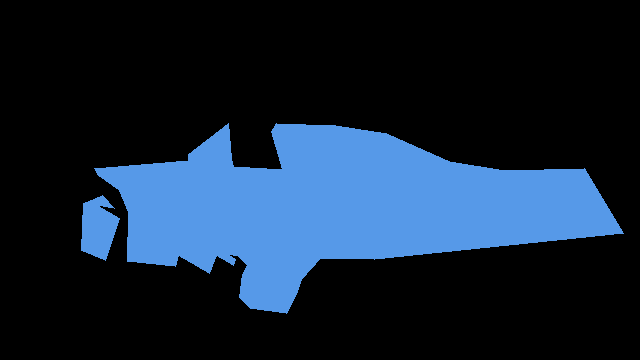Airplane: (81, 123, 624, 314)
